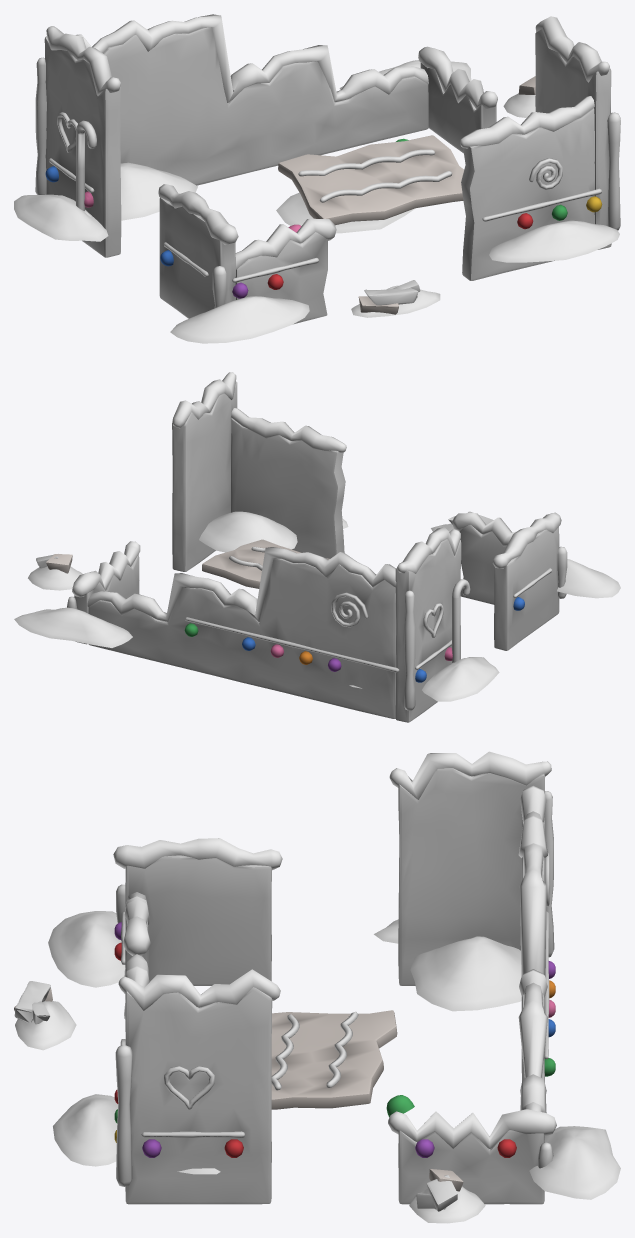
File: ruinA.glb
3 renders of one model, top to bottom at view 1: azimuth 30°, elevation 25°; view 2: azimuth 150°, elevation 25°; view 3: azimuth 270°, elevation 25°, orthographic. The views are drawn at different scales.
Visible parts, largest first — view 1: ruinA_gingerbread, ruinA_snow, ruinA_icing, ruinA_gumdrop, ruinA_candy; view 2: ruinA_gingerbread, ruinA_snow, ruinA_icing, ruinA_gumdrop, ruinA_candy; view 3: ruinA_gingerbread, ruinA_snow, ruinA_icing, ruinA_gumdrop.
Part boxes in pixels (box(x1,y1,x2,y2)): ruinA_gingerbread: box(44, 27, 611, 324); ruinA_snow: box(14, 14, 619, 343); ruinA_icing: box(35, 57, 620, 307); ruinA_gumdrop: box(45, 138, 602, 298); ruinA_candy: box(76, 120, 96, 211); ruinA_gingerbread: box(36, 381, 559, 722); ruinA_snow: box(14, 372, 620, 701); ruinA_icing: box(67, 546, 567, 710); ruinA_gumdrop: box(184, 597, 524, 682); ruinA_candy: box(452, 579, 470, 662); ruinA_gingerbread: box(14, 768, 545, 1211); ruinA_snow: box(15, 751, 620, 1223); ruinA_icing: box(115, 791, 554, 1186); ruinA_gumdrop: box(114, 922, 555, 1157).
Size of the model in its own units: 9.89 by 3.42 by 8.12.
